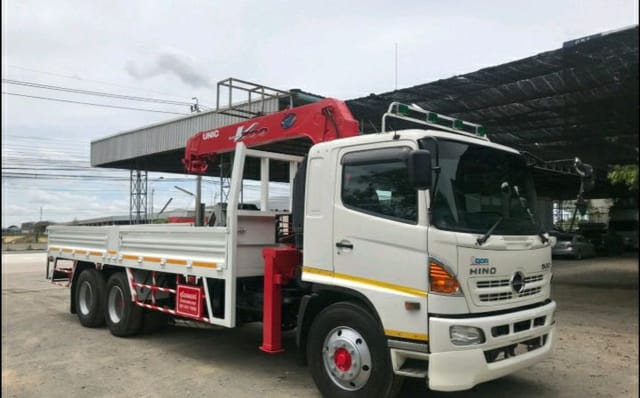truck: (44, 123, 556, 392)
